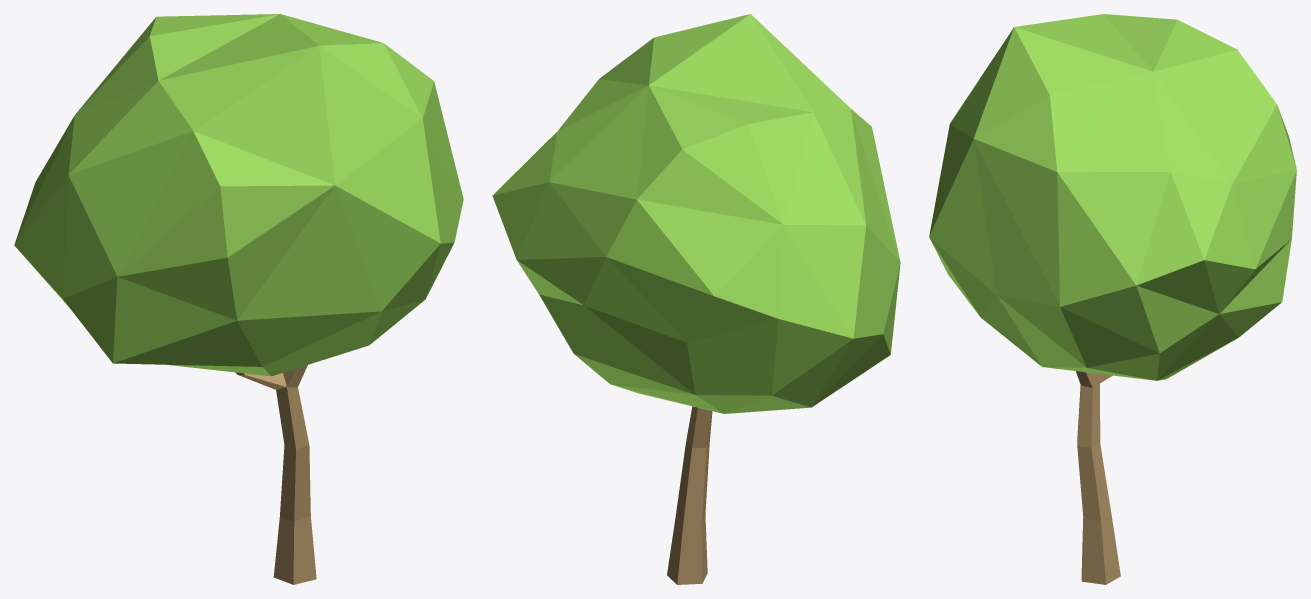
Rendered from Apple_Tree_m_BT_03.fbx.
The picture shows the model from 3 angles, left to right: view 1: azimuth 30°, elevation 25°; view 2: azimuth 150°, elevation 25°; view 3: azimuth 270°, elevation 25°; orthographic projection. The views are drawn at different scales.
Parts seen in each view (by area): view 1: Apple_Tree_m_BT_03; view 2: Apple_Tree_m_BT_03; view 3: Apple_Tree_m_BT_03.
Boxes of the visible parts, x1,y1,x2,y2 form: Apple_Tree_m_BT_03: [14, 14, 463, 584]; Apple_Tree_m_BT_03: [492, 14, 900, 584]; Apple_Tree_m_BT_03: [929, 14, 1296, 584].
Bounding box in the file's own units: 510 × 711 × 439.
